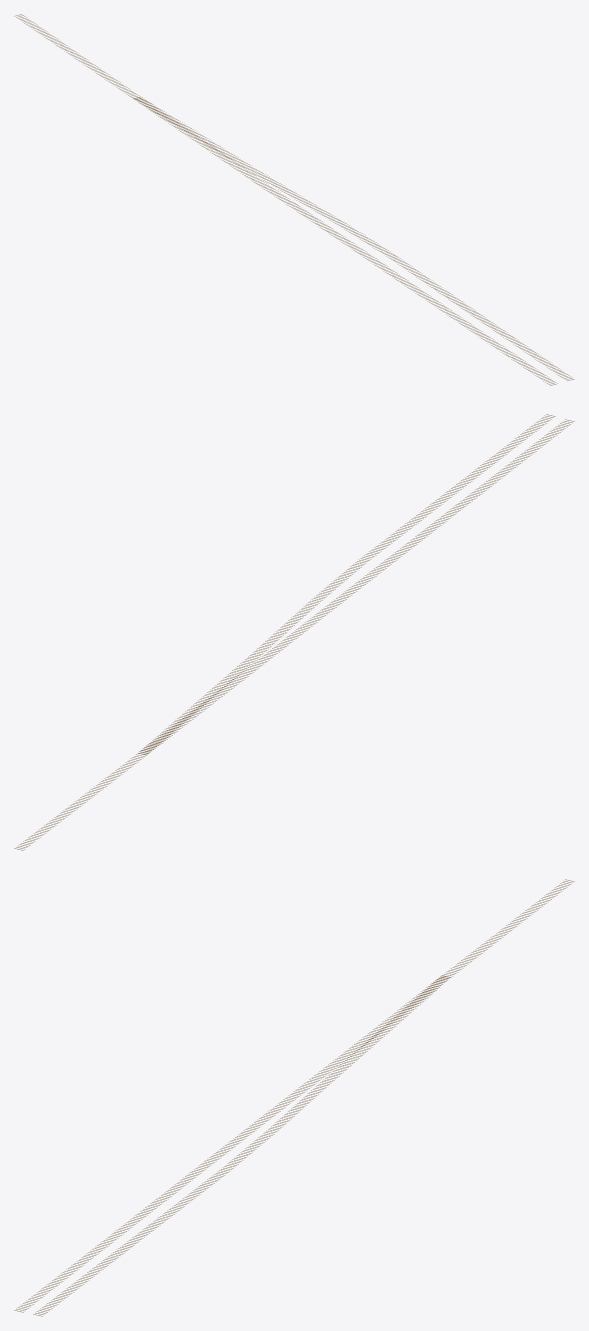
File: c_1629_17836_rail_sleeper.glb
3 renders of one model, top to bottom at view 1: azimuth 30°, elevation 25°; view 2: azimuth 150°, elevation 25°; view 3: azimuth 330°, elevation 25°, orthographic. The views are drawn at different scales.
Parts seen in each view (by area): view 1: geometry_0; view 2: geometry_0; view 3: geometry_0.
Part boxes in pixels (bbox=[...]): geometry_0: bbox=[14, 14, 574, 385]; geometry_0: bbox=[14, 414, 574, 850]; geometry_0: bbox=[14, 879, 574, 1316].
Bounding box in the file's own units: 14.13 × 0.2305 × 255.
